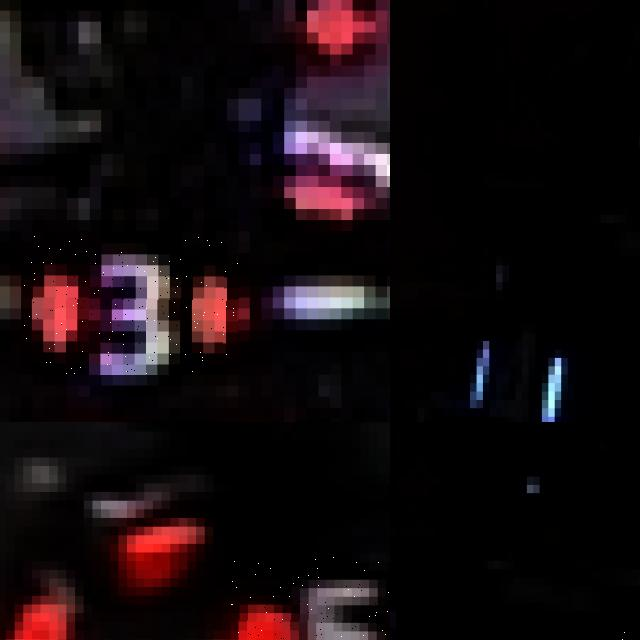B4: (463, 298, 567, 422)
R3: (21, 231, 239, 375)
R5: (49, 431, 231, 570), (230, 552, 390, 640)
